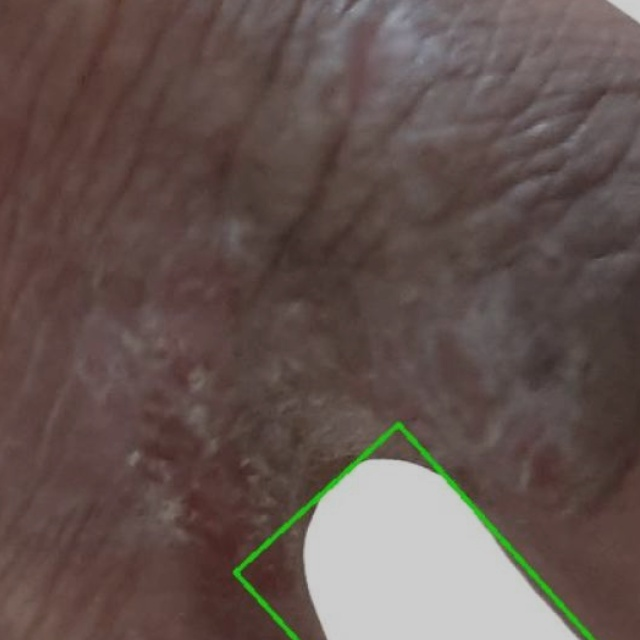Eczema: (234, 425, 591, 639)
